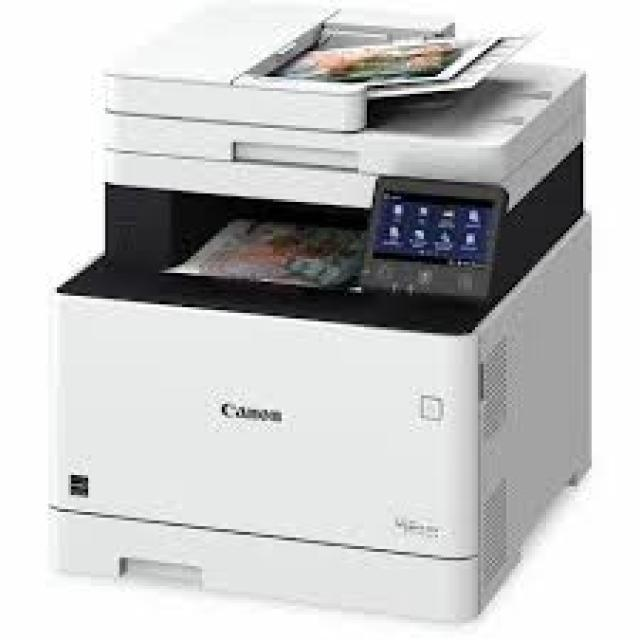printer: (46, 0, 592, 623)
